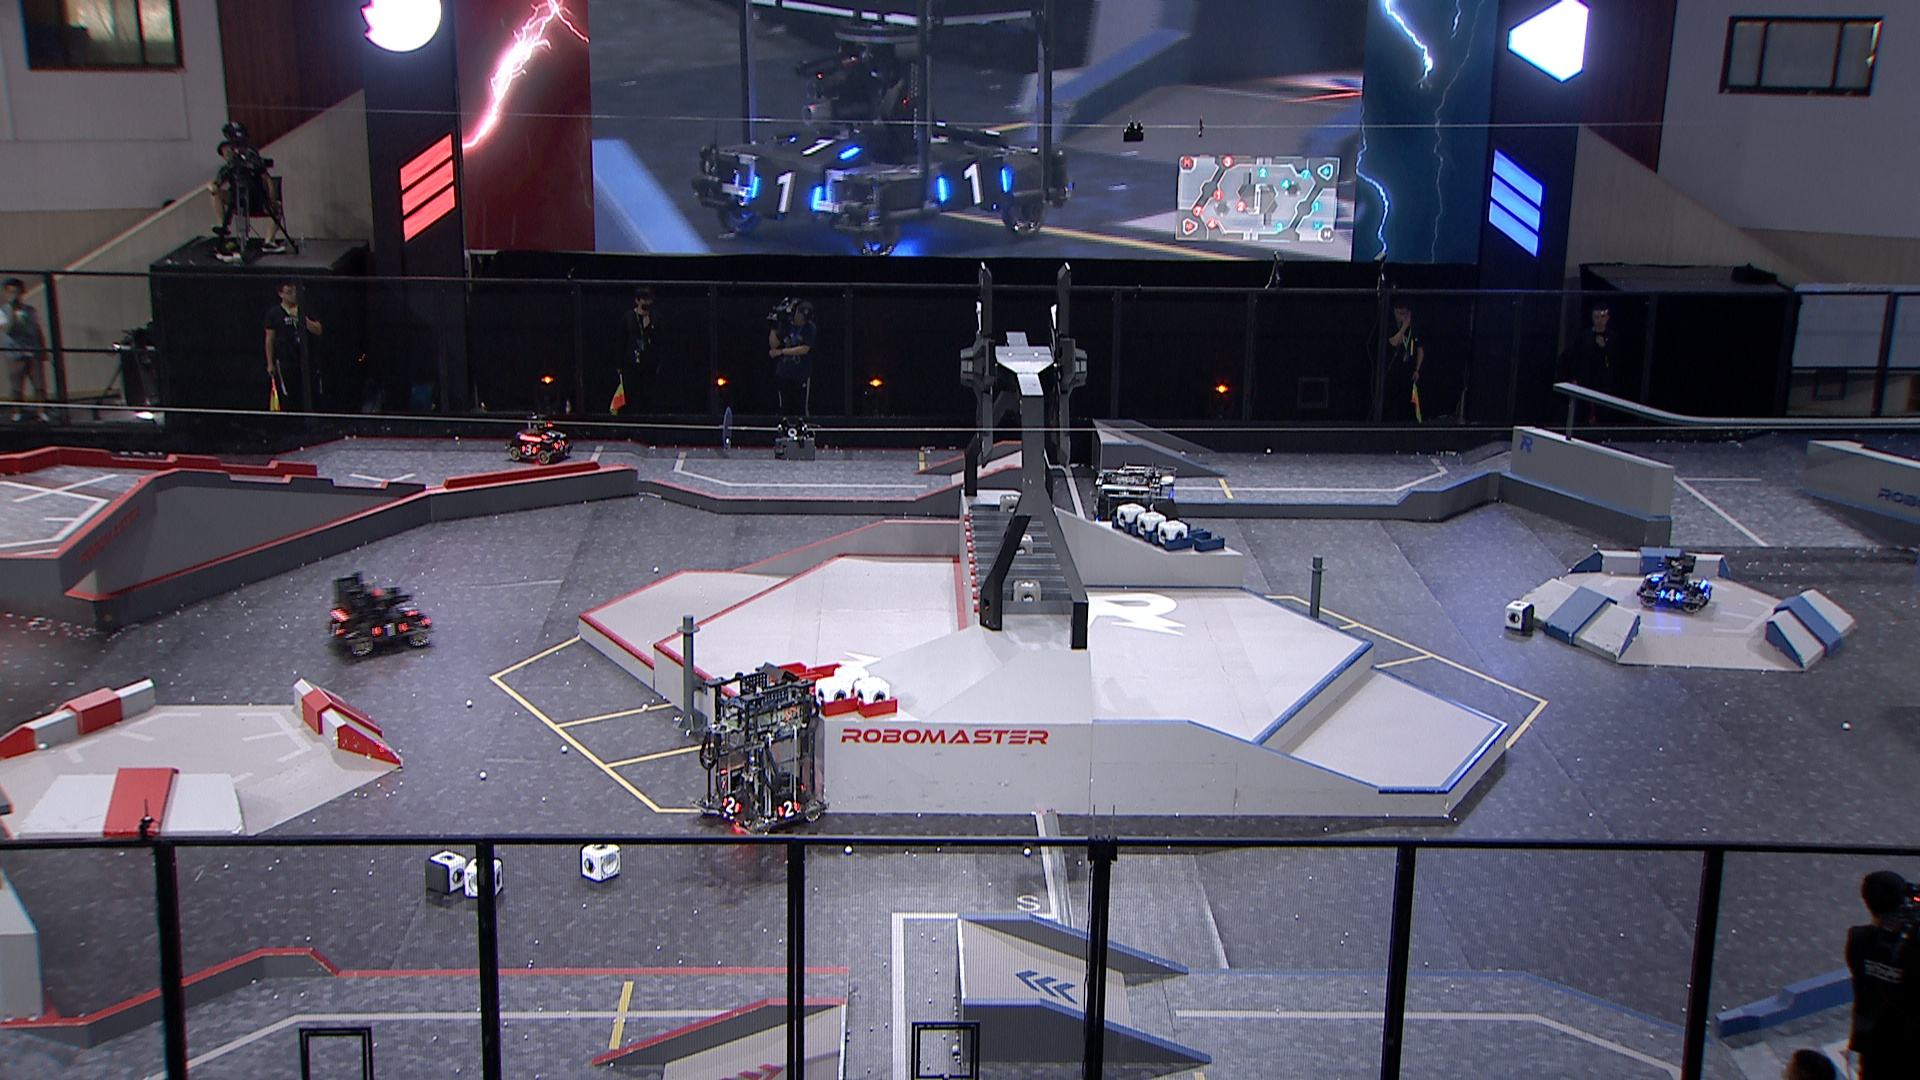armor: (778, 799, 803, 820), (372, 621, 407, 636), (721, 794, 742, 818), (1659, 585, 1684, 603), (398, 603, 419, 618), (520, 440, 541, 455), (324, 618, 342, 636), (1647, 566, 1662, 583), (553, 436, 564, 450), (545, 429, 556, 439)
car: (694, 661, 823, 836), (1088, 458, 1191, 560), (320, 567, 433, 659), (1636, 547, 1718, 616), (506, 413, 570, 469)
